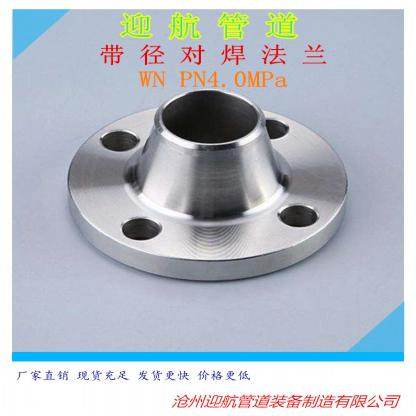FOD: (62, 83, 357, 287)
